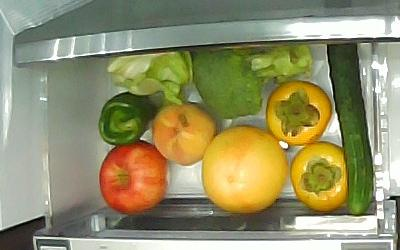apple: (99, 141, 167, 215)
broccoli: (191, 40, 315, 119)
cucumber: (326, 43, 374, 217)
grapefruit: (200, 125, 287, 214)
lettuce: (105, 48, 194, 105)
paprika: (99, 92, 158, 145)
peach: (151, 104, 215, 167)
persimmon: (266, 81, 333, 147), (290, 141, 347, 212)
